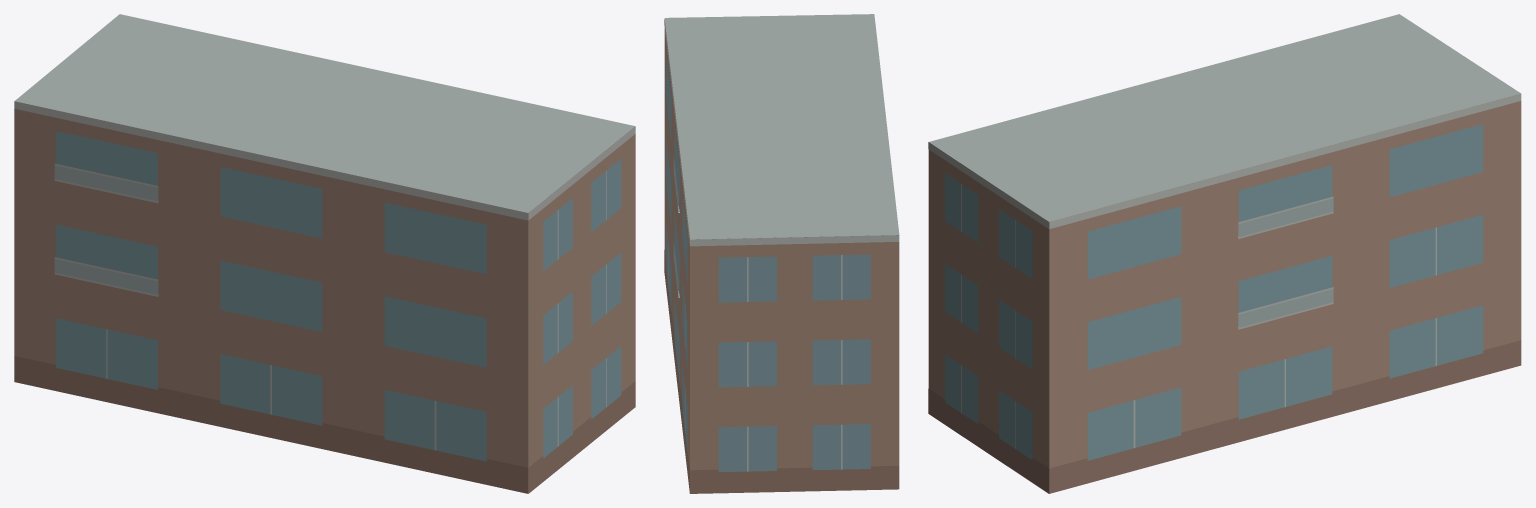
File: survey-upis-32794830.glb
3 views of the same model, side by side, from view 1: azimuth 30°, elevation 25°; view 2: azimuth 150°, elevation 25°; view 3: azimuth 270°, elevation 25° (orthographic). The views are drawn at different scales.
Visible parts, largest first — view 1: survey-upis-32794830.tmp; view 2: survey-upis-32794830.tmp; view 3: survey-upis-32794830.tmp.
Part boxes in pixels (x1,y1,x2,y2): survey-upis-32794830.tmp: (14,14,635,493); survey-upis-32794830.tmp: (664,14,899,493); survey-upis-32794830.tmp: (928,14,1521,493).
Bounding box in the file's own units: 15.02 × 9.15 × 18.09.
